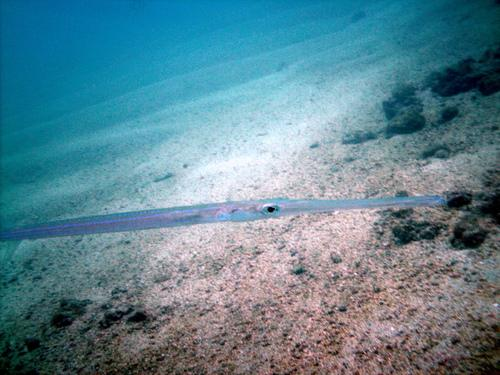Fistularia commersonii: (0, 156, 463, 252)
